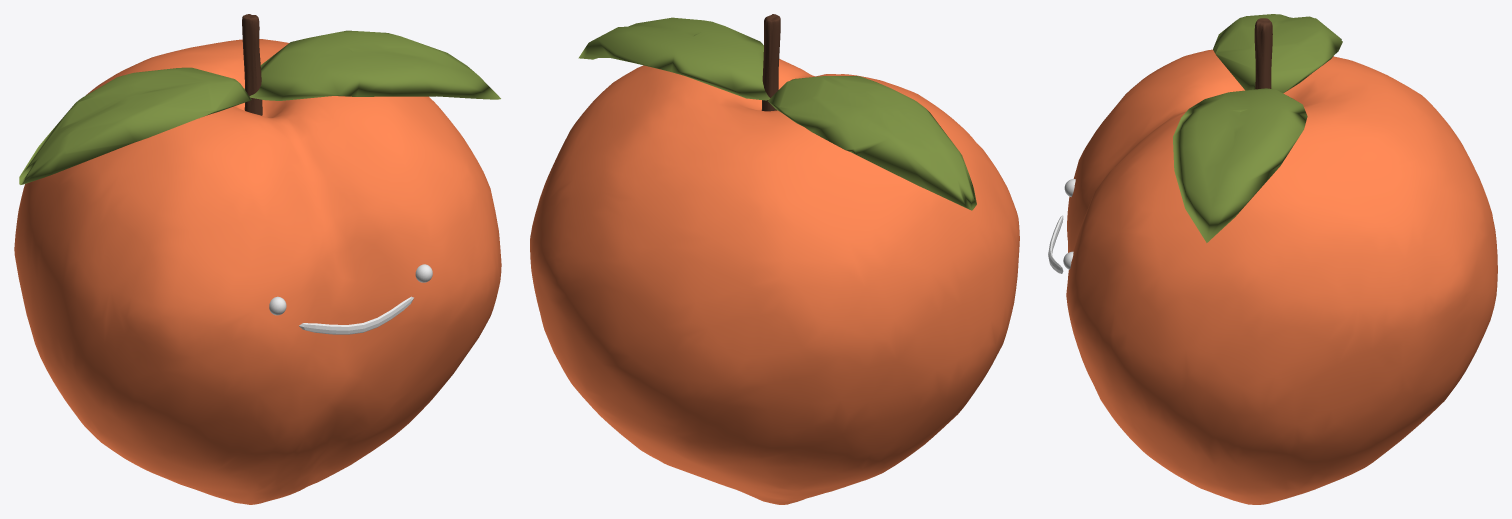
File: peacheyes.glb
3 renders of one model, left to right at view 1: azimuth 30°, elevation 25°; view 2: azimuth 150°, elevation 25°; view 3: azimuth 270°, elevation 25°, orthographic.
Parts seen in each view (by area): view 1: Peach, Leaves, stem, Cube.001; view 2: Peach, Leaves, stem; view 3: Peach, Leaves, stem.
Boxes of the visible parts, x1=… form: Peach: x1=14, y1=39, x2=501, y2=504; Leaves: x1=19, y1=30, x2=500, y2=184; stem: x1=242, y1=14, x2=262, y2=115; Cube.001: x1=299, y1=296, x2=413, y2=334; Peach: x1=530, y1=59, x2=1019, y2=504; Leaves: x1=578, y1=17, x2=976, y2=210; stem: x1=761, y1=14, x2=780, y2=111; Peach: x1=1066, y1=49, x2=1497, y2=504; Leaves: x1=1173, y1=14, x2=1342, y2=242; stem: x1=1254, y1=18, x2=1272, y2=89.
Size of the model in its own units: 219 by 231 by 197.
